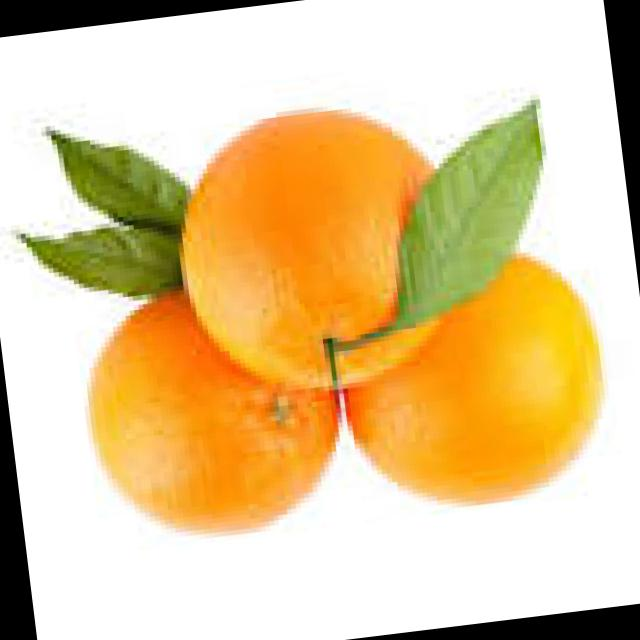orange: (180, 113, 431, 386), (345, 257, 602, 504), (90, 290, 338, 530), (338, 328, 429, 385)
